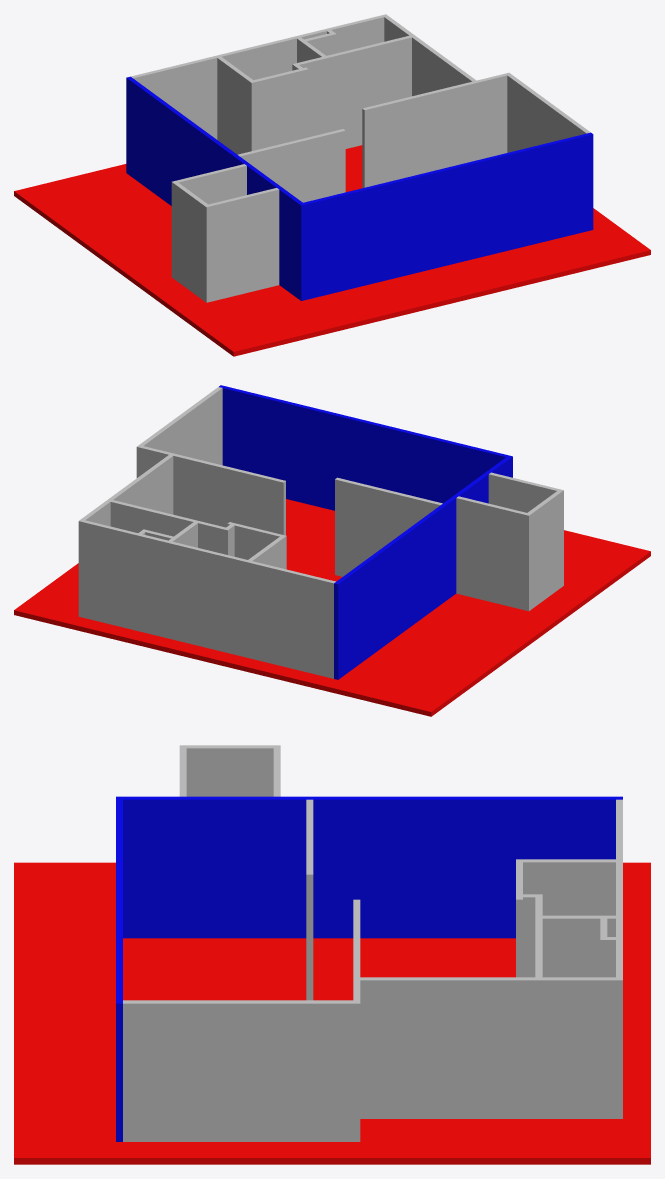
The model's file is teste3.gltf.
3 views of the same model, one above another, from view 1: azimuth 30°, elevation 25°; view 2: azimuth 150°, elevation 25°; view 3: azimuth 270°, elevation 25° (orthographic). The views are drawn at different scales.
Visible parts, largest first — view 1: Piso_Genérico_150_mm_334933, Parede_básica_Genérico_-_140_mm_Alvenaria_330306, Parede_básica_Genérico_-_140_mm_Alvenaria_330667, Parede_básica_Genérico_-_140_mm_Alvenaria_330118, Parede_básica_Genérico_-_140_mm_Alvenaria_333211, Parede_básica_Genérico_-_140_mm_Alvenaria_331917, Parede_básica_Genérico_-_140_mm_Alvenaria_331529, Parede_básica_Genérico_-_140_mm_Alvenaria_332297, Parede_básica_Genérico_-_140_mm_Alvenaria_332878, Parede_básica_Genérico_-_140_mm_Alvenaria_330470, Parede_básica_Genérico_-_140_mm_Alvenaria_332014, Parede_básica_Genérico_-_140_mm_Alvenaria_332644 (+2 smaller); view 2: Piso_Genérico_150_mm_334933, Parede_básica_Genérico_-_140_mm_Alvenaria_331529, Parede_básica_Genérico_-_140_mm_Alvenaria_330306, Parede_básica_Genérico_-_140_mm_Alvenaria_330118, Parede_básica_Genérico_-_140_mm_Alvenaria_330667, Parede_básica_Genérico_-_140_mm_Alvenaria_332083, Parede_básica_Genérico_-_140_mm_Alvenaria_332297, Parede_básica_Genérico_-_140_mm_Alvenaria_332014, Parede_básica_Genérico_-_140_mm_Alvenaria_330470, Parede_básica_Genérico_-_140_mm_Alvenaria_331212, Parede_básica_Genérico_-_140_mm_Alvenaria_333211, Parede_básica_Genérico_-_140_mm_Alvenaria_331917 (+2 smaller); view 3: Piso_Genérico_150_mm_334933, Parede_básica_Genérico_-_140_mm_Alvenaria_330118, Parede_básica_Genérico_-_140_mm_Alvenaria_331212, Parede_básica_Genérico_-_140_mm_Alvenaria_330470, Parede_básica_Genérico_-_140_mm_Alvenaria_332644, Parede_básica_Genérico_-_140_mm_Alvenaria_332014, Parede_básica_Genérico_-_140_mm_Alvenaria_333345, Parede_básica_Genérico_-_140_mm_Alvenaria_330306, Parede_básica_Genérico_-_140_mm_Alvenaria_332297, Parede_básica_Genérico_-_140_mm_Alvenaria_331529, Parede_básica_Genérico_-_140_mm_Alvenaria_333044, Parede_básica_Genérico_-_140_mm_Alvenaria_330667 (+3 smaller).
Part boxes in pixels (bbox=[...]): Piso_Genérico_150_mm_334933: bbox=[14, 145, 650, 356]; Parede_básica_Genérico_-_140_mm_Alvenaria_330306: bbox=[303, 132, 593, 299]; Parede_básica_Genérico_-_140_mm_Alvenaria_330667: bbox=[362, 73, 507, 188]; Parede_básica_Genérico_-_140_mm_Alvenaria_330118: bbox=[126, 76, 305, 300]; Parede_básica_Genérico_-_140_mm_Alvenaria_333211: bbox=[297, 35, 411, 148]; Parede_básica_Genérico_-_140_mm_Alvenaria_331917: bbox=[204, 188, 279, 302]; Parede_básica_Genérico_-_140_mm_Alvenaria_331529: bbox=[131, 15, 384, 139]; Parede_básica_Genérico_-_140_mm_Alvenaria_332297: bbox=[238, 129, 345, 202]; Parede_básica_Genérico_-_140_mm_Alvenaria_332878: bbox=[254, 67, 308, 149]; Parede_básica_Genérico_-_140_mm_Alvenaria_330470: bbox=[505, 72, 590, 152]; Parede_básica_Genérico_-_140_mm_Alvenaria_332014: bbox=[171, 180, 207, 300]; Parede_básica_Genérico_-_140_mm_Alvenaria_332644: bbox=[217, 57, 255, 154]; Piso_Genérico_150_mm_334933: bbox=[14, 499, 650, 716]; Parede_básica_Genérico_-_140_mm_Alvenaria_331529: bbox=[82, 520, 335, 678]; Parede_básica_Genérico_-_140_mm_Alvenaria_330306: bbox=[219, 385, 508, 510]; Parede_básica_Genérico_-_140_mm_Alvenaria_330118: bbox=[334, 455, 512, 679]; Parede_básica_Genérico_-_140_mm_Alvenaria_330667: bbox=[141, 446, 285, 535]; Parede_básica_Genérico_-_140_mm_Alvenaria_332083: bbox=[456, 496, 526, 610]; Parede_básica_Genérico_-_140_mm_Alvenaria_332297: bbox=[335, 477, 442, 576]; Parede_básica_Genérico_-_140_mm_Alvenaria_332014: bbox=[524, 491, 561, 611]; Parede_básica_Genérico_-_140_mm_Alvenaria_330470: bbox=[136, 387, 222, 477]; Parede_básica_Genérico_-_140_mm_Alvenaria_331212: bbox=[78, 455, 173, 617]; Parede_básica_Genérico_-_140_mm_Alvenaria_333211: bbox=[110, 500, 225, 553]; Parede_básica_Genérico_-_140_mm_Alvenaria_331917: bbox=[488, 472, 563, 586]; Piso_Genérico_150_mm_334933: bbox=[14, 862, 650, 1164]; Parede_básica_Genérico_-_140_mm_Alvenaria_330118: bbox=[116, 796, 622, 938]; Parede_básica_Genérico_-_140_mm_Alvenaria_331212: bbox=[360, 977, 622, 1118]; Parede_básica_Genérico_-_140_mm_Alvenaria_330470: bbox=[123, 1000, 360, 1141]; Parede_básica_Genérico_-_140_mm_Alvenaria_332644: bbox=[516, 859, 615, 915]; Parede_básica_Genérico_-_140_mm_Alvenaria_332014: bbox=[186, 745, 280, 796]; Parede_básica_Genérico_-_140_mm_Alvenaria_333345: bbox=[542, 915, 615, 977]; Parede_básica_Genérico_-_140_mm_Alvenaria_330306: bbox=[116, 799, 122, 1141]; Parede_básica_Genérico_-_140_mm_Alvenaria_332297: bbox=[306, 799, 313, 1000]; Parede_básica_Genérico_-_140_mm_Alvenaria_331529: bbox=[616, 799, 622, 977]; Parede_básica_Genérico_-_140_mm_Alvenaria_333044: bbox=[523, 894, 542, 977]; Parede_básica_Genérico_-_140_mm_Alvenaria_330667: bbox=[353, 899, 360, 1000].
Bounding box in the file's own units: 44.99 × 10.33 × 41.02.
